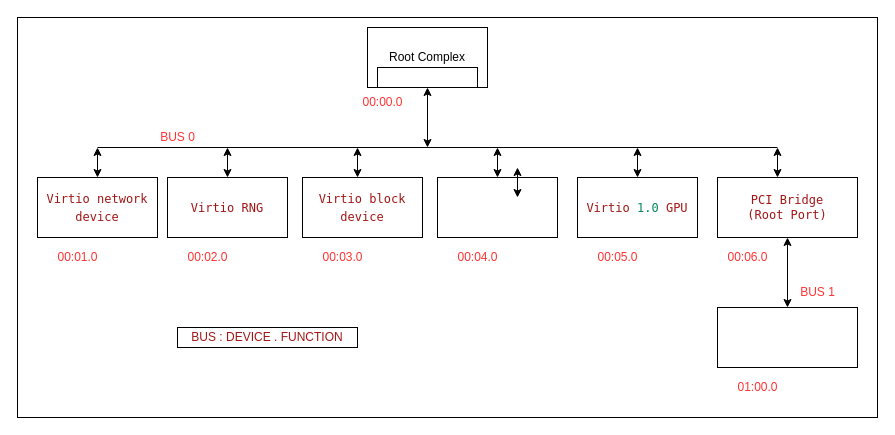
The diagram is 895 pixels wide and 435 high, and some of its shapes have lost their labels. The centre of each missing label's shape, as x and y in pixels:
"Host Bridge" belongs at (x=427, y=77).
"minimal-pcie-nic" belongs at (x=787, y=337).
"QEMU XHCI Host Controller" belongs at (x=497, y=207).
